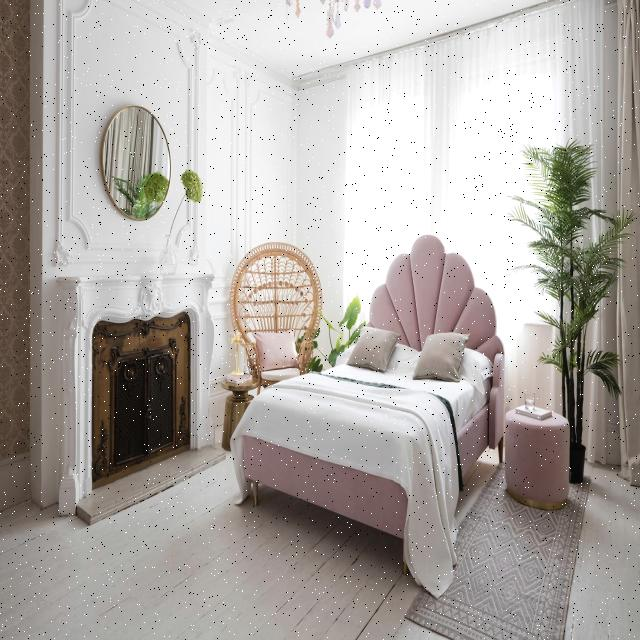bed: (237, 296, 498, 540)
